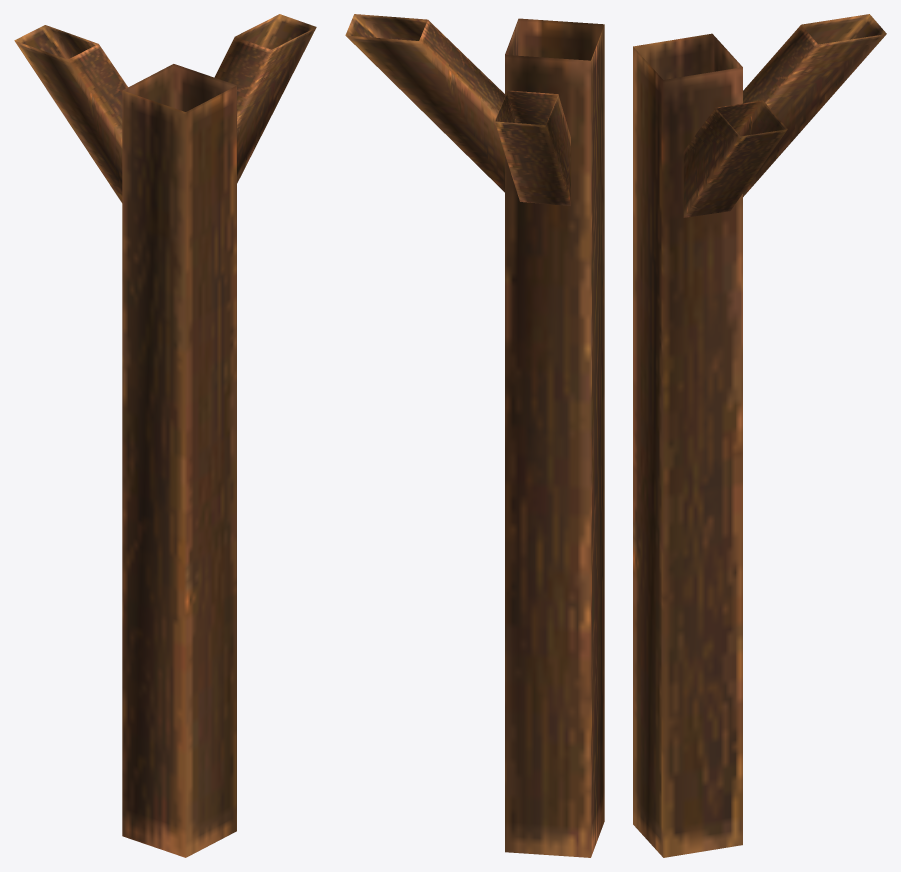
The model's file is SWORDLIGHT20_JAILPLATSUPPORT68.fbx.
3 renders of one model, left to right at view 1: azimuth 30°, elevation 25°; view 2: azimuth 150°, elevation 25°; view 3: azimuth 270°, elevation 25°, orthographic. The views are drawn at different scales.
Parts seen in each view (by area): view 1: SWORDLIGHT20_JAILPLATSUPPORT68; view 2: SWORDLIGHT20_JAILPLATSUPPORT68; view 3: SWORDLIGHT20_JAILPLATSUPPORT68.
Boxes of the visible parts, x1=… form: SWORDLIGHT20_JAILPLATSUPPORT68: x1=14, y1=14, x2=316, y2=857; SWORDLIGHT20_JAILPLATSUPPORT68: x1=345, y1=14, x2=604, y2=857; SWORDLIGHT20_JAILPLATSUPPORT68: x1=633, y1=14, x2=886, y2=857.
Size of the model in its own units: 13630 by 40518 by 11944.
Materials: 1 (1 with a texture image).
